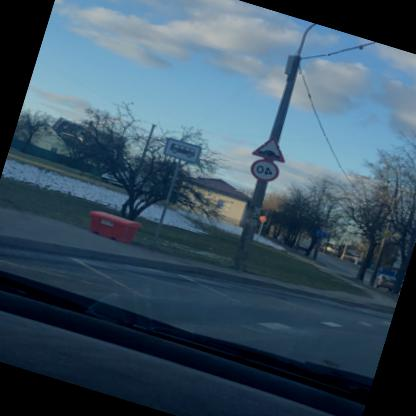speedlimit: (249, 154, 282, 184)
